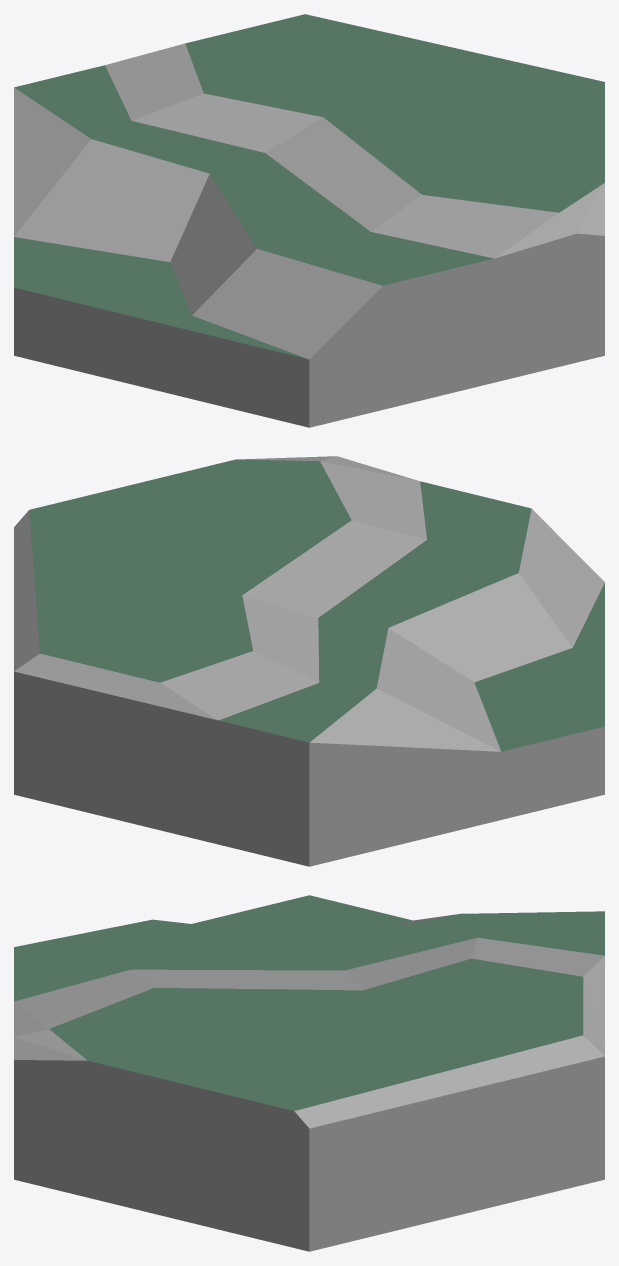
File: Hex09.fbx
3 views of the same model, one above another, from view 1: azimuth 30°, elevation 25°; view 2: azimuth 150°, elevation 25°; view 3: azimuth 270°, elevation 25° (orthographic).
Parts seen in each view (by area): view 1: Hex09; view 2: Hex09; view 3: Hex09.
Boxes of the visible parts, x1,y1,x2,y2 form: Hex09: (14,14,604,427); Hex09: (14,456,604,866); Hex09: (14,895,604,1251).
Bounding box in the file's own units: 1.67 × 0.3694 × 1.44.
